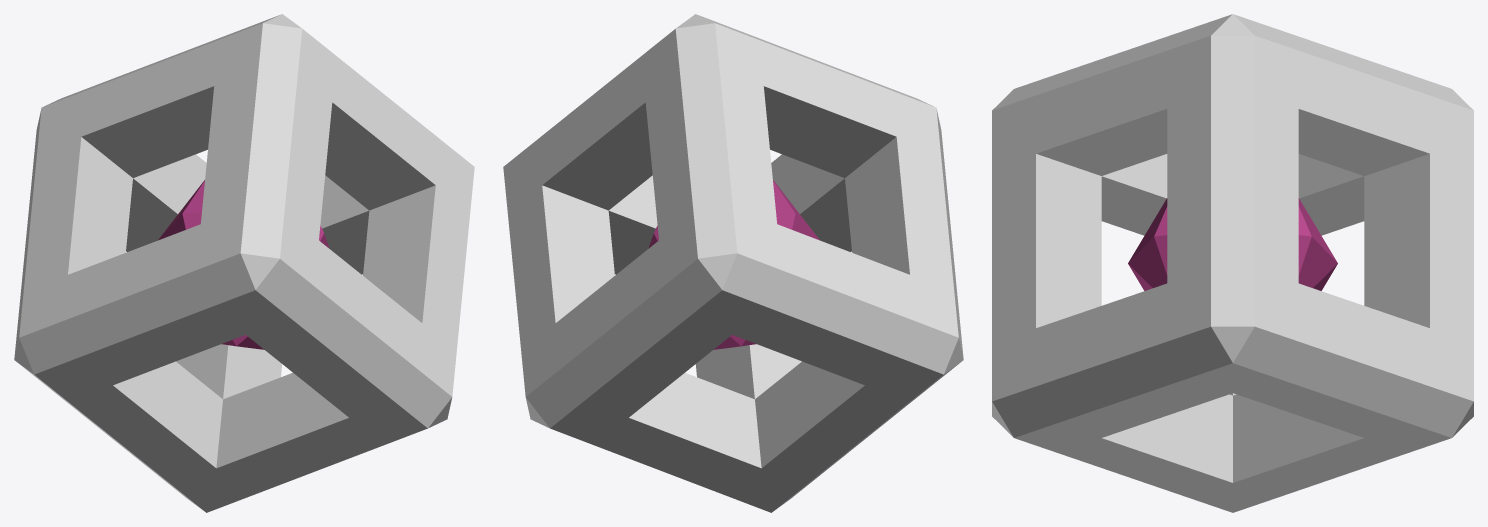
Rendered from SM_EnergyCore.fbx.
The picture shows the model from 3 angles, left to right: view 1: azimuth 30°, elevation 25°; view 2: azimuth 150°, elevation 25°; view 3: azimuth 270°, elevation 25°; orthographic projection. The views are drawn at different scales.
Parts seen in each view (by area): view 1: EnergyCore_Structure, EnergyCore_Core; view 2: EnergyCore_Structure, EnergyCore_Core; view 3: EnergyCore_Structure, EnergyCore_Core.
Part boxes in pixels (left/top/right/bottom): EnergyCore_Structure: left=14, top=14, right=474, bottom=512; EnergyCore_Core: left=158, top=180, right=329, bottom=349; EnergyCore_Structure: left=503, top=14, right=963, bottom=512; EnergyCore_Core: left=648, top=180, right=819, bottom=349; EnergyCore_Structure: left=992, top=14, right=1473, bottom=512; EnergyCore_Core: left=1128, top=198, right=1337, bottom=290.
Bounding box in the file's own units: 924 × 924 × 778.
